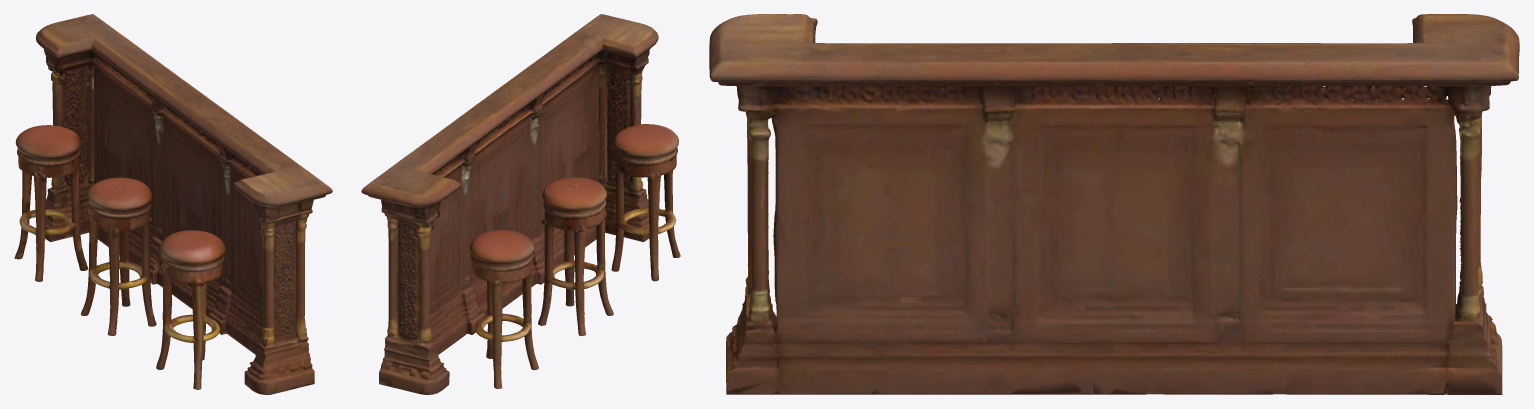
Rendered from bar stand.glb.
3 renders of one model, left to right at view 1: azimuth 30°, elevation 25°; view 2: azimuth 150°, elevation 25°; view 3: azimuth 270°, elevation 25°, orthographic. The views are drawn at different scales.
Size of the model in its own units: 0.5929 by 0.9264 by 2.
1 material, 1 textured.
